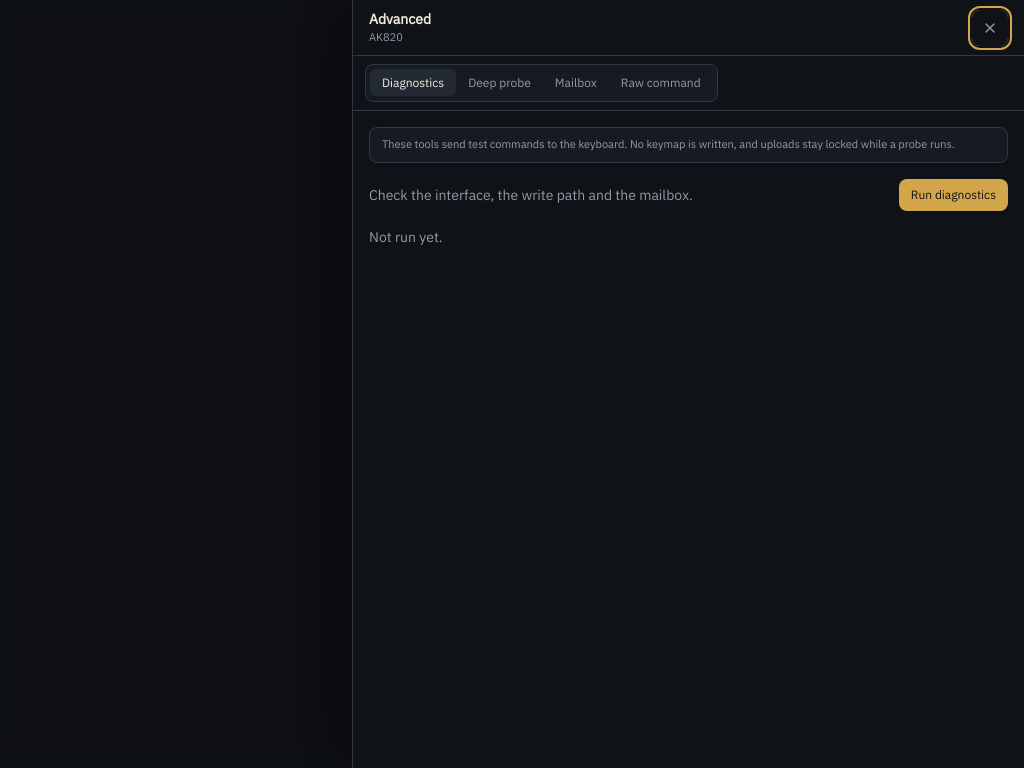
Scenario: AdvancedDrawer › logs malformed hex without sending
Click the tab "Raw command" at [661, 83], box [609, 69, 713, 97]
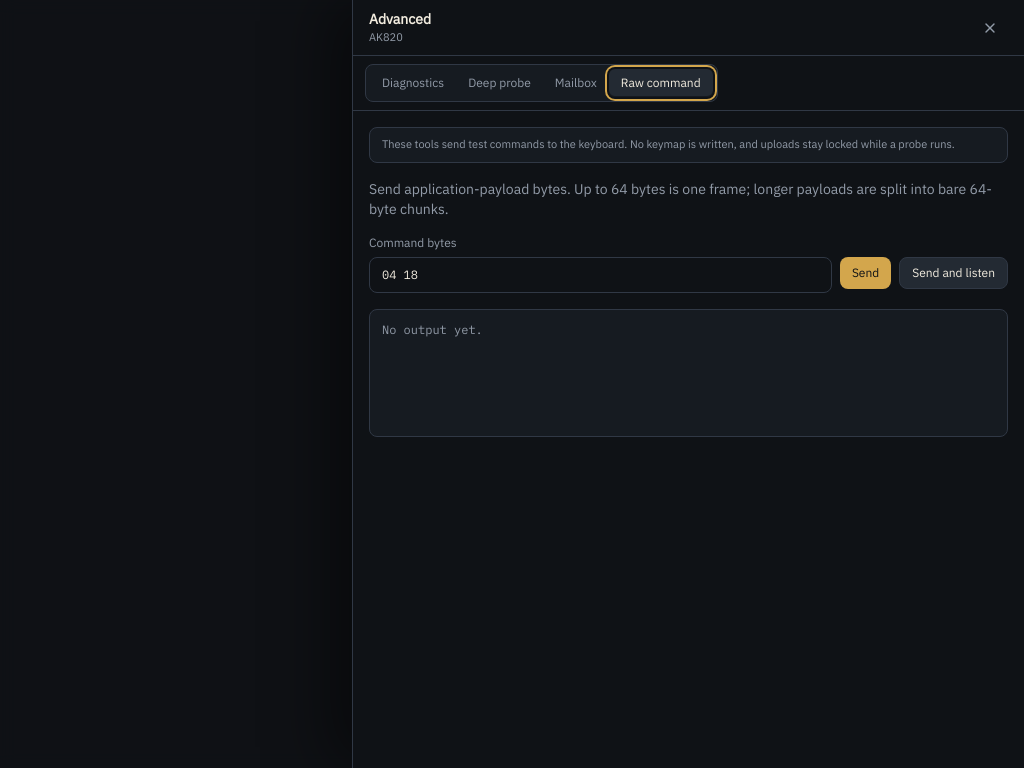
Replace the text in the field labelled "Command bytes" with "0x4" at [600, 275], box [369, 257, 832, 293]
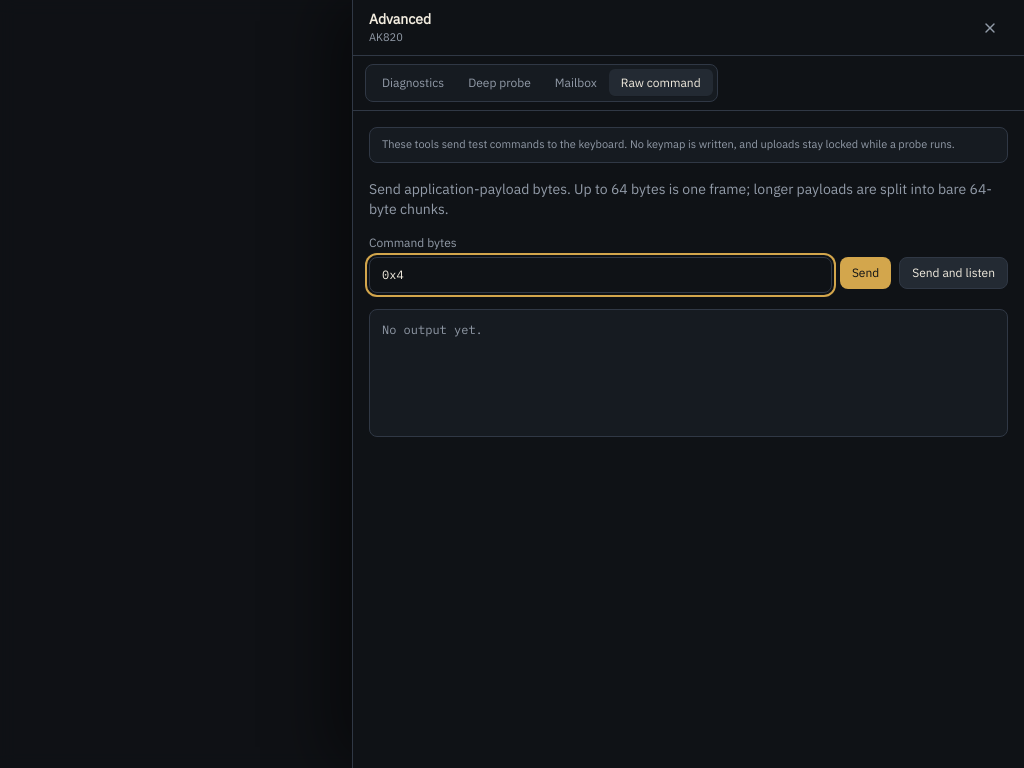
Click the button "Send" at [866, 273], box [840, 257, 891, 289]
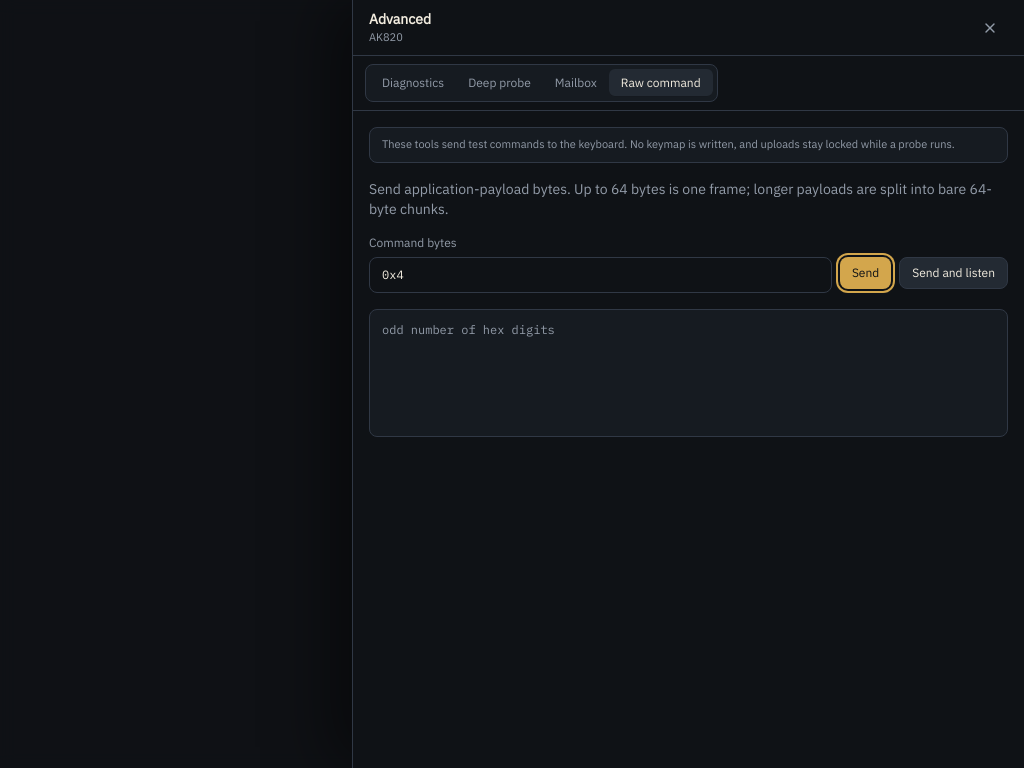
Check: the text "odd number of hex digits" is shown, box [369, 309, 1008, 437]
